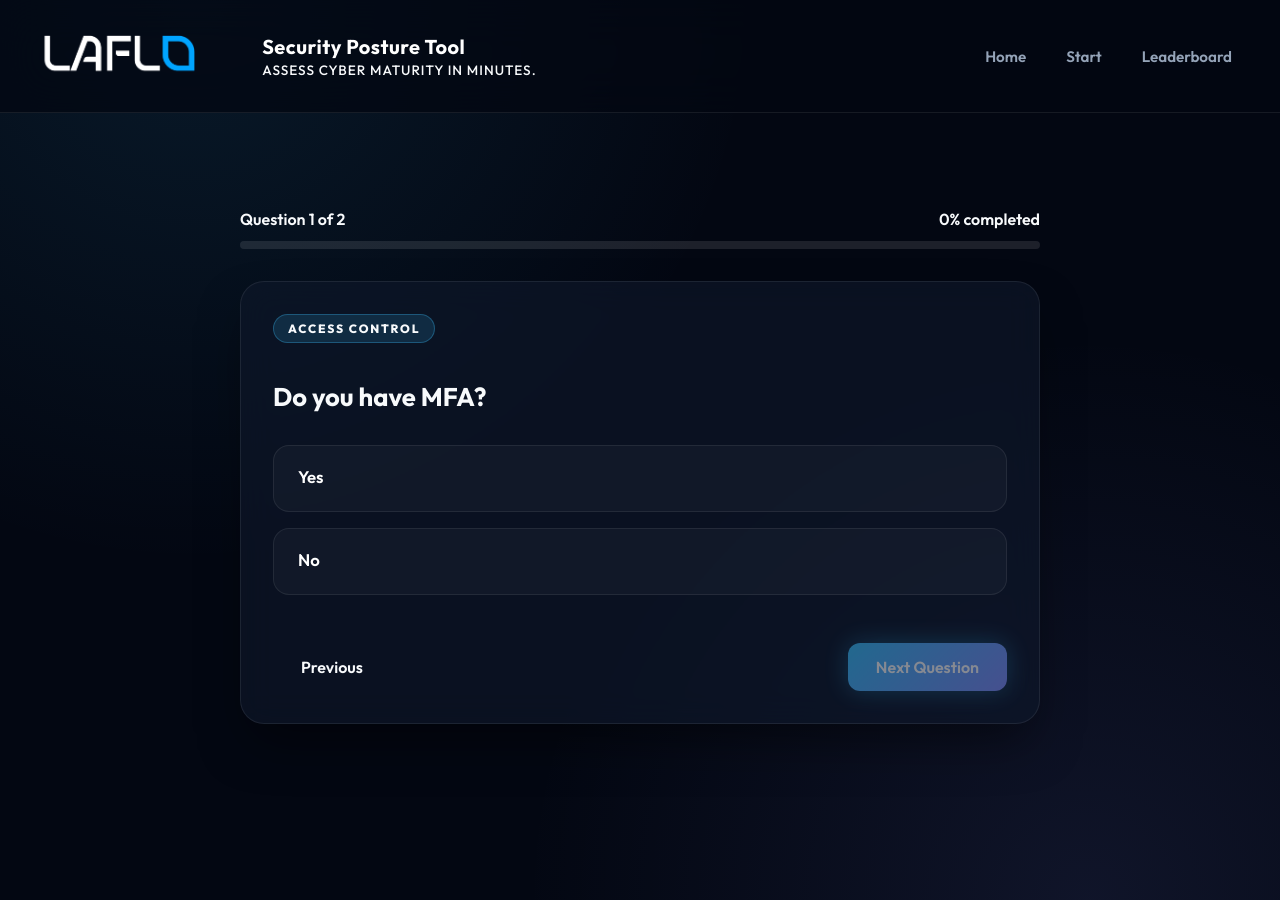
Questionnaire Component › should navigate between questions
Expected: the heading "Do you have MFA?" is shown, [273,380,486,413]
Select an answer
Click the button "Yes". click: (311, 477)
box: [273,445,1007,512]
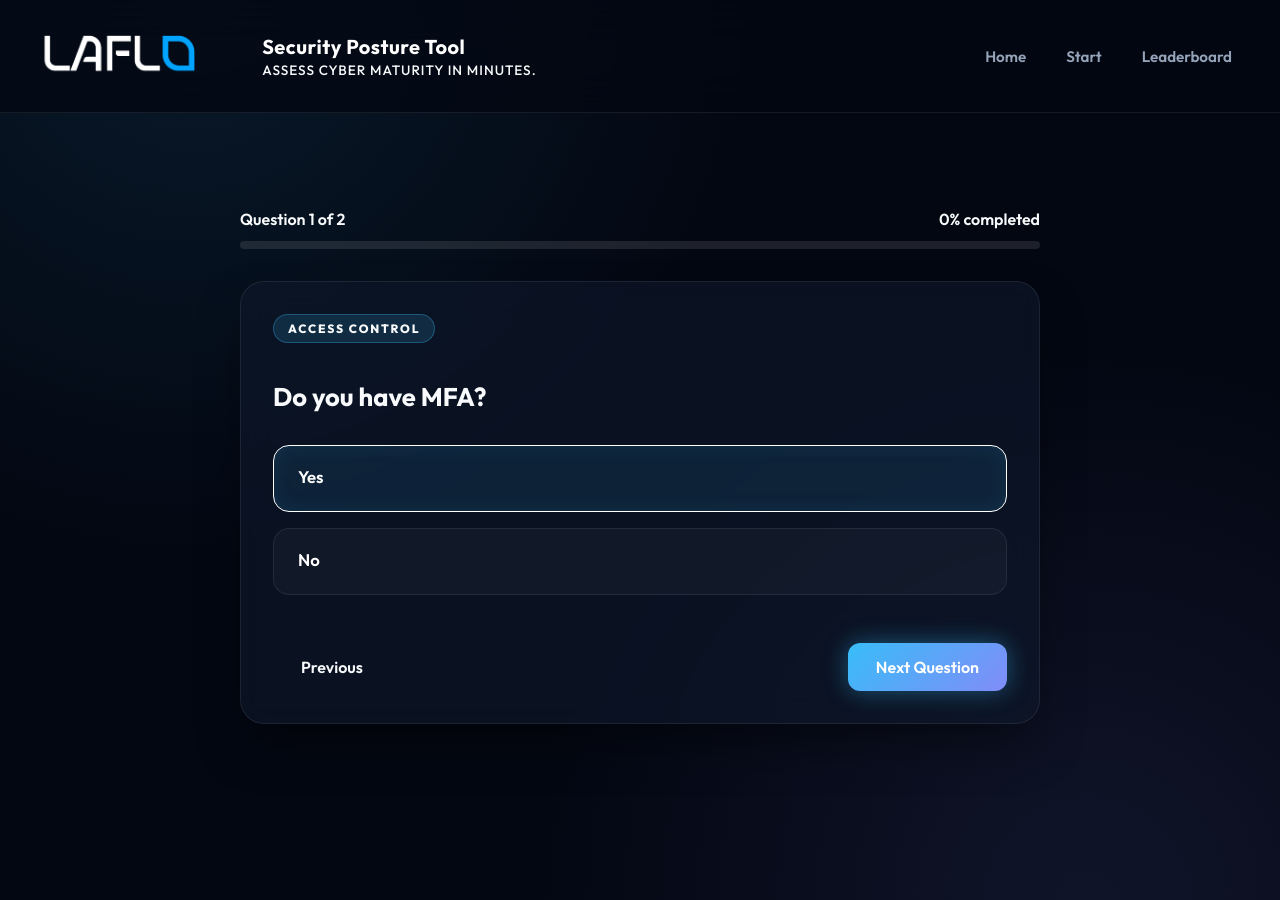
Click Next
Click the button "Next Question". click: (927, 667)
box: [848,643,1007,691]
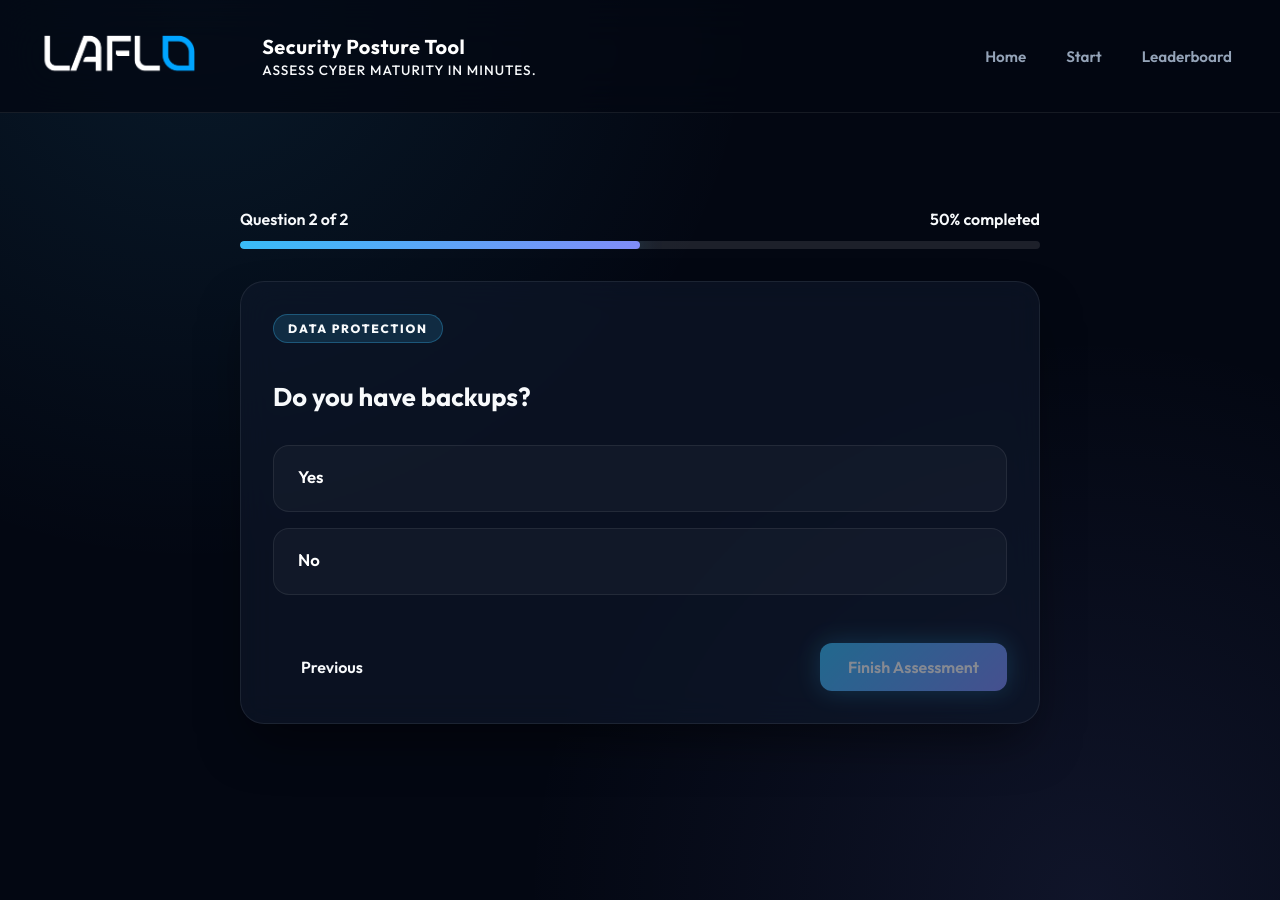
Now the heading "Do you have backups?" is shown, box [273,380,531,413]
Click Previous
Click the button "Previous". click: (332, 667)
box: [273,643,391,691]
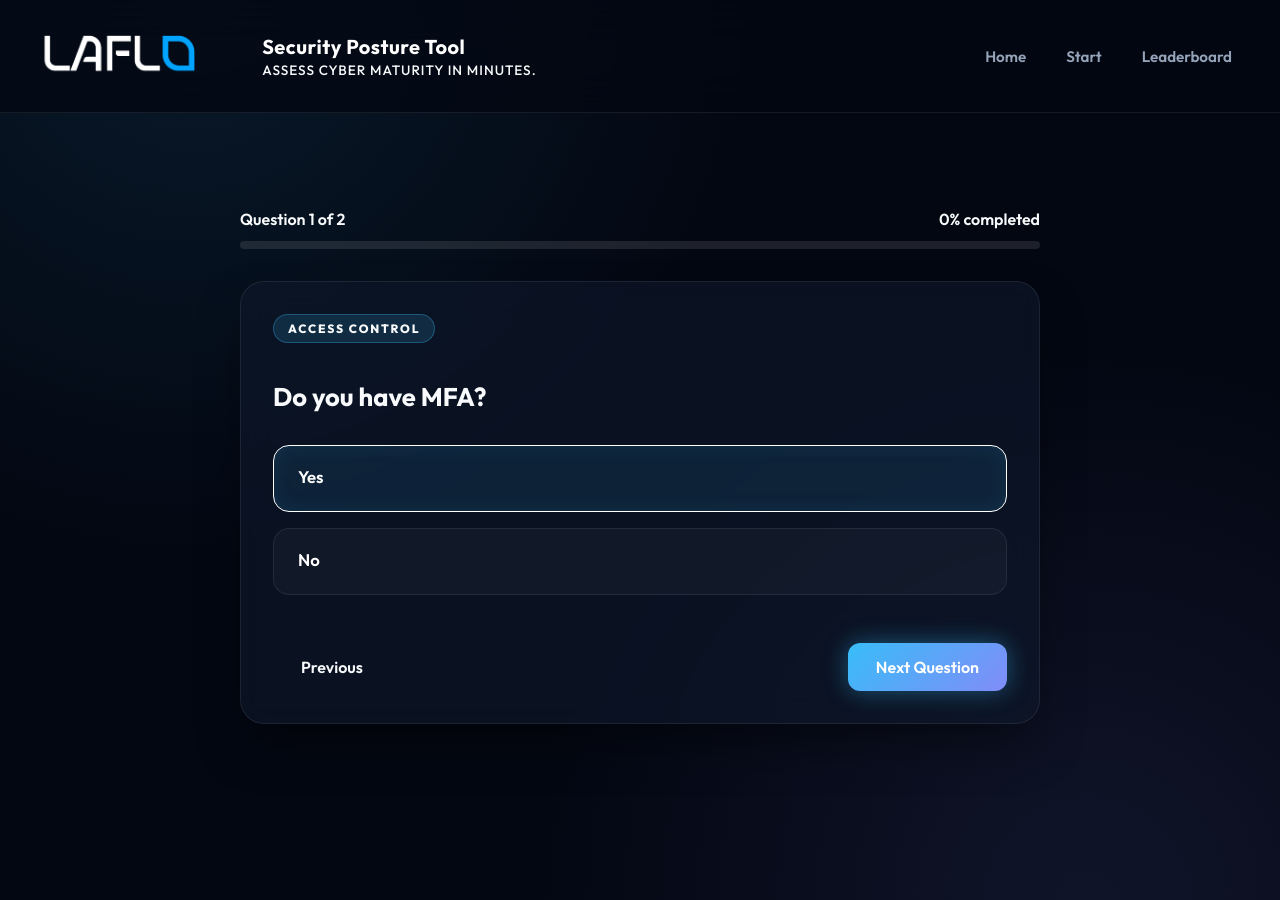
Now the heading "Do you have MFA?" is shown, box [273,380,486,413]
